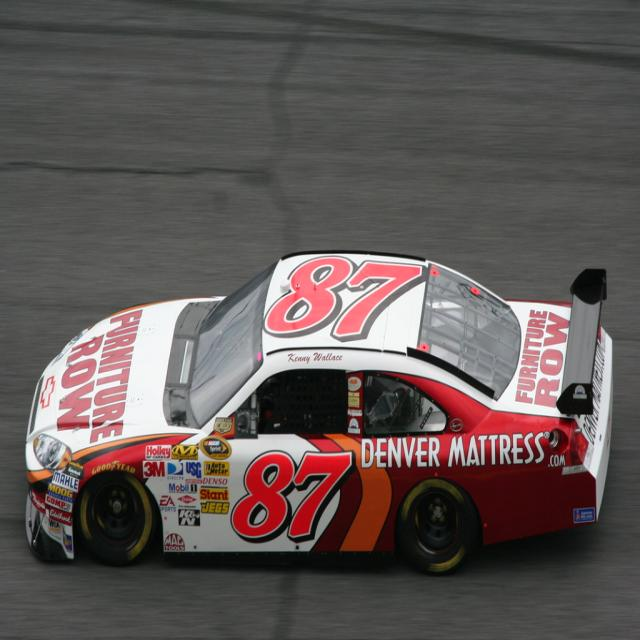car: (0, 258, 605, 568)
